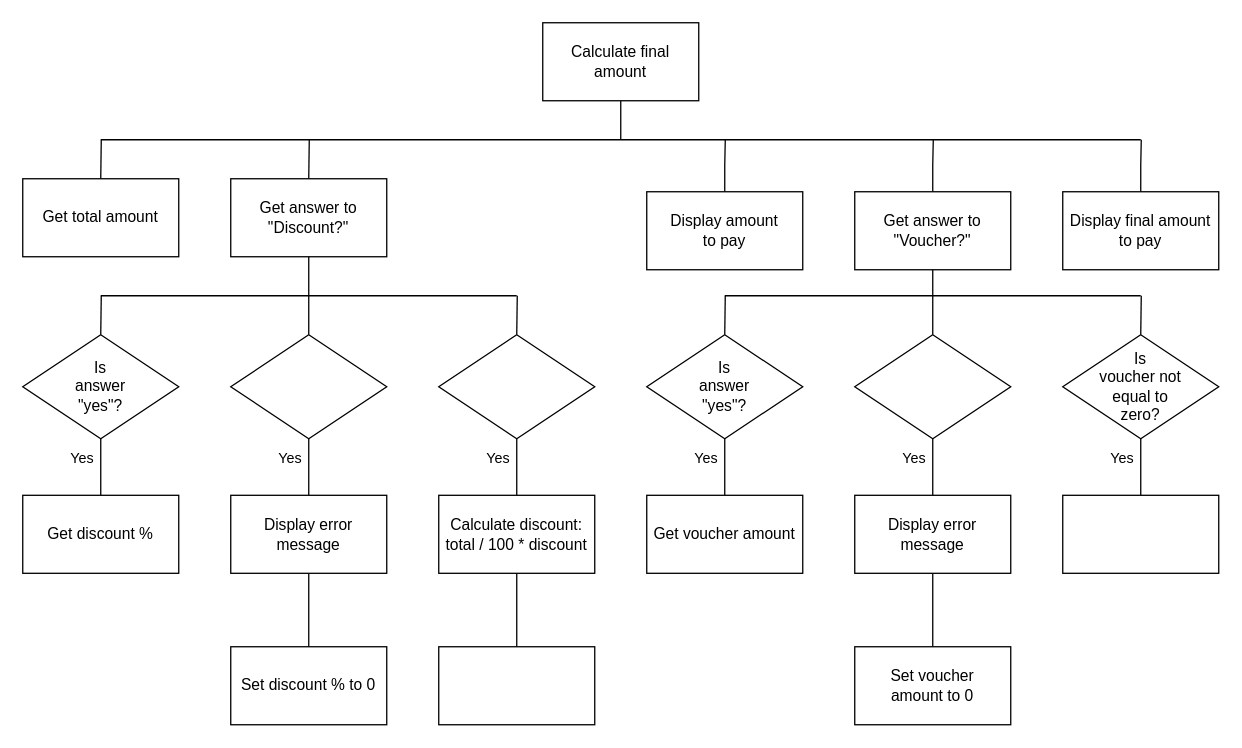
The diagram is 1242 pixels wide and 748 high, and some of its shapes have lost their labels. The box of each missing label's shape, as (x1, y1, x2, y2) in pixels:
Is discount % > 40?: (229, 333, 387, 439)
Is discount % not equal to zero?: (437, 333, 595, 439)
Is voucher > total?: (853, 333, 1011, 439)
Update total: total - discount: (437, 645, 595, 725)
Update total: total - voucher: (1061, 494, 1219, 573)
